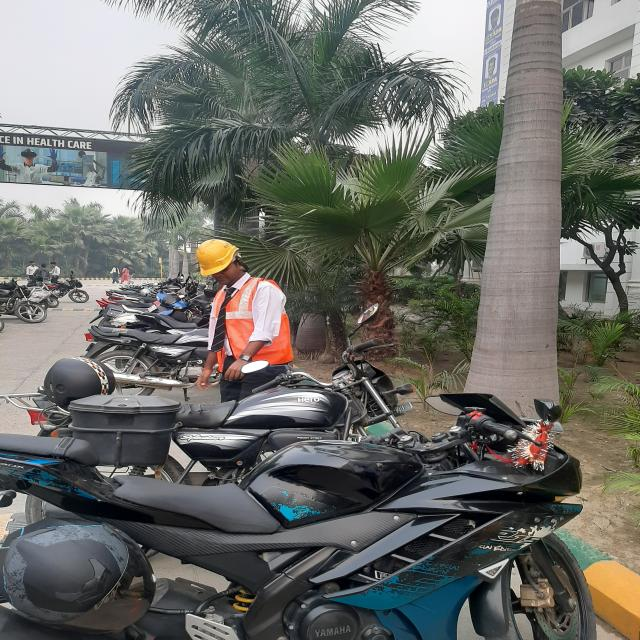safe: (196, 237, 293, 410)
unsafe: (34, 263, 50, 284), (26, 261, 39, 282), (49, 262, 61, 283), (109, 266, 121, 284), (120, 267, 130, 284), (127, 266, 136, 284)
